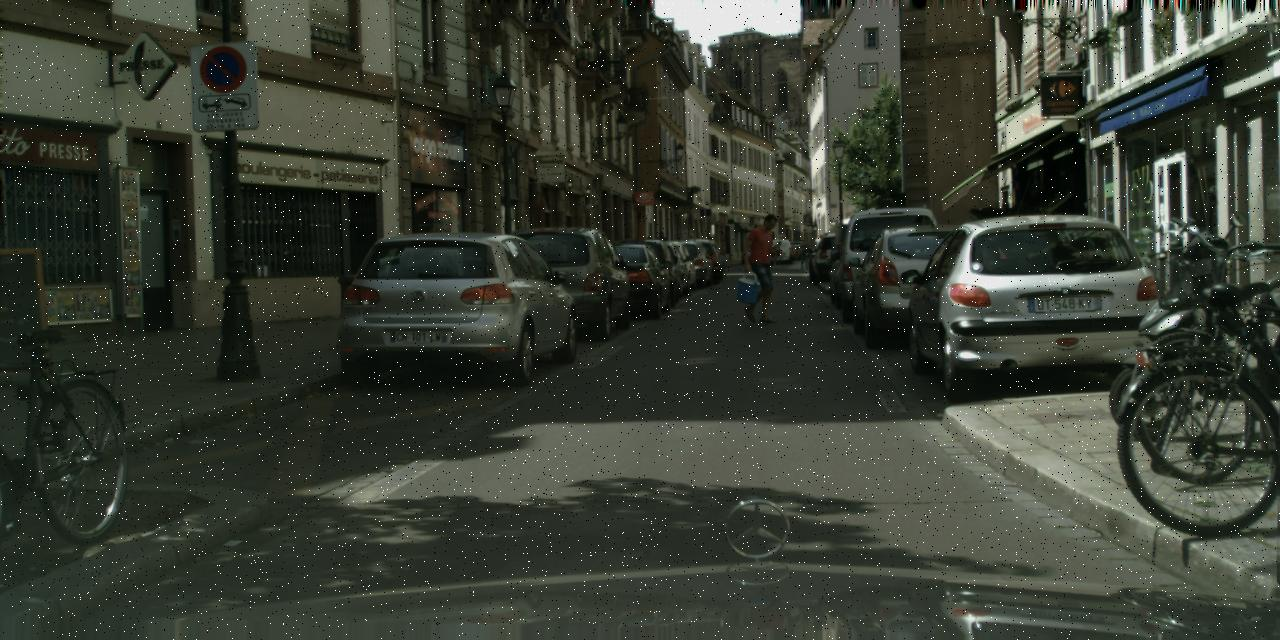ped: (744, 214, 788, 324), (772, 240, 782, 264), (800, 238, 809, 261)
